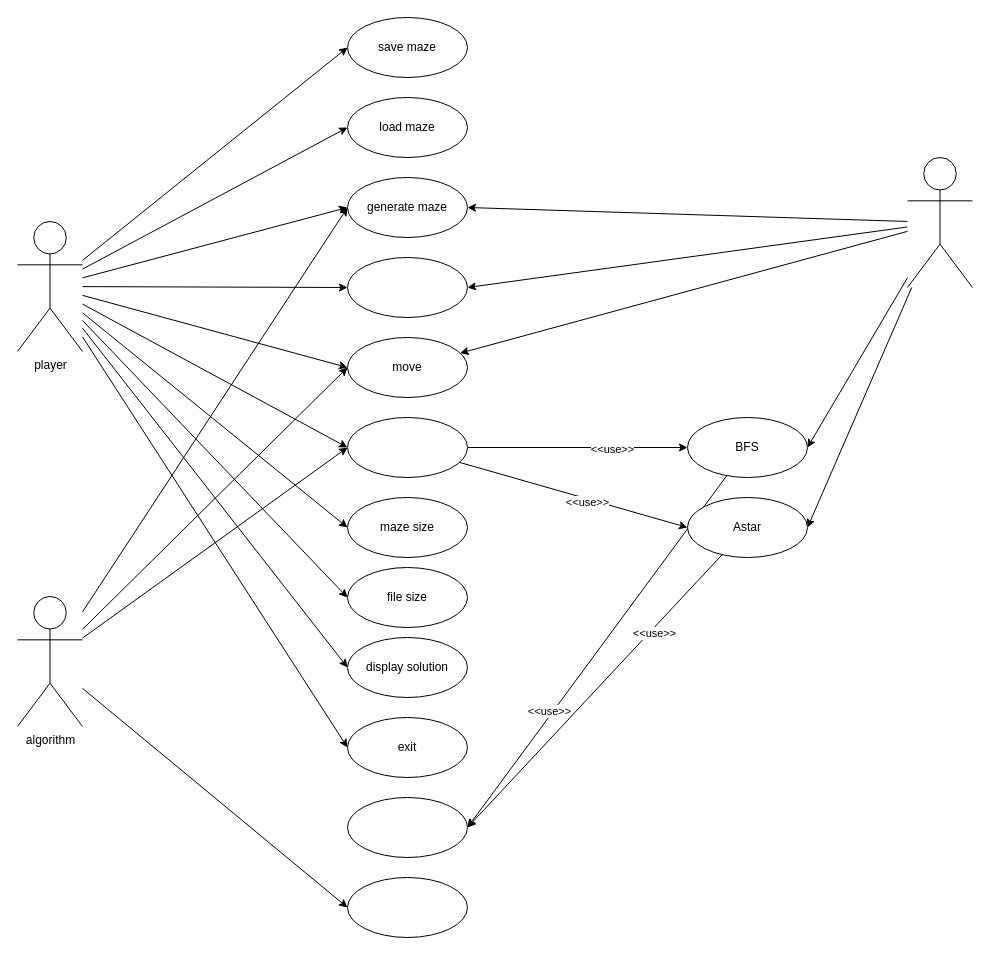
Image size: 990x955. Some labels were removed from this diagram. Here are the shapes that lost their labels. From the top down, the centre of each, then its label:
pixel 939 222: demo
pixel 407 287: display
pixel 407 447: solve
pixel 407 827: num of states
pixel 407 907: run_time
